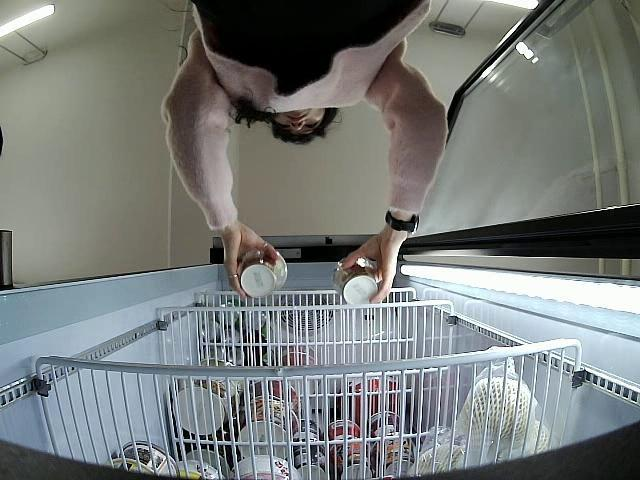04_chapagetti_S: (240, 248, 288, 296), (332, 258, 379, 306)
